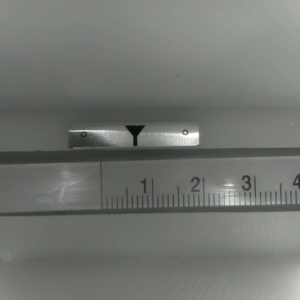1: (139, 177, 146, 194)
2: (190, 177, 200, 192)
3: (240, 176, 251, 191)
4: (291, 173, 300, 189)
finger: (124, 126, 144, 146)
